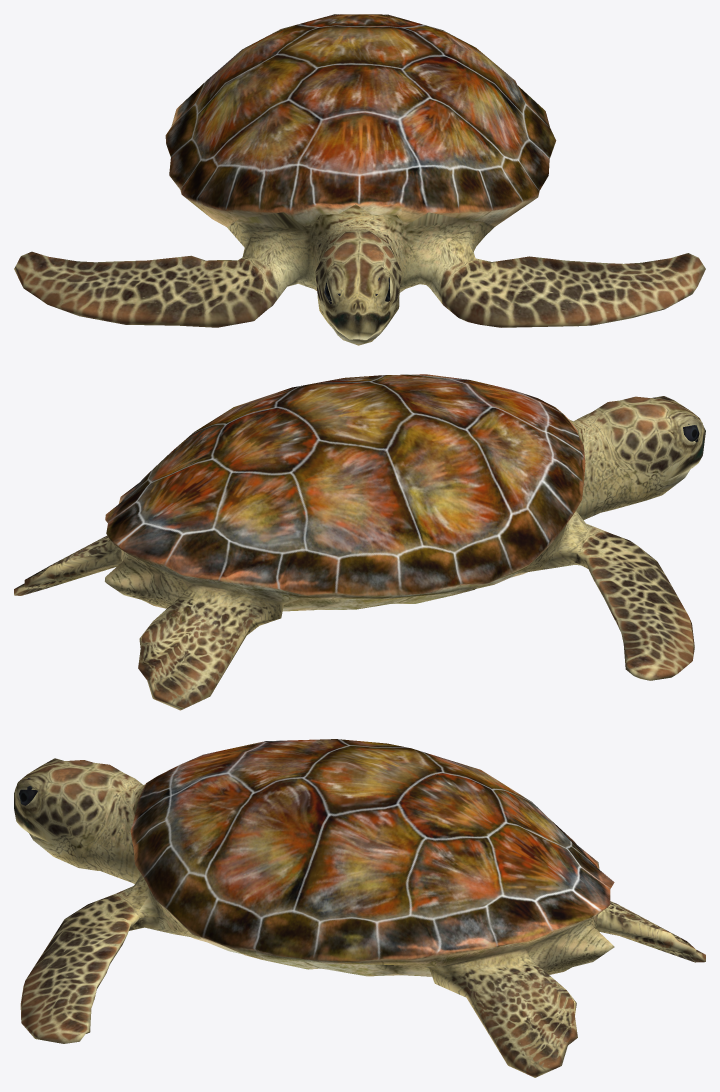
Rendered from Tortuga_de_agua_dos.glb.
The picture shows the model from 3 angles, top to bottom: view 1: azimuth 30°, elevation 25°; view 2: azimuth 150°, elevation 25°; view 3: azimuth 270°, elevation 25°; orthographic projection. The views are drawn at different scales.
Visible parts, largest first — view 1: Sea_Turtle; view 2: Sea_Turtle; view 3: Sea_Turtle.
Boxes of the visible parts, left/top/right/bottom form: Sea_Turtle: left=14, top=14, right=705, bottom=345; Sea_Turtle: left=14, top=374, right=705, bottom=710; Sea_Turtle: left=14, top=739, right=705, bottom=1077.
Bounding box in the file's own units: 4.77 × 1.5 × 4.86.
Materials: 1 (1 with a texture image).
